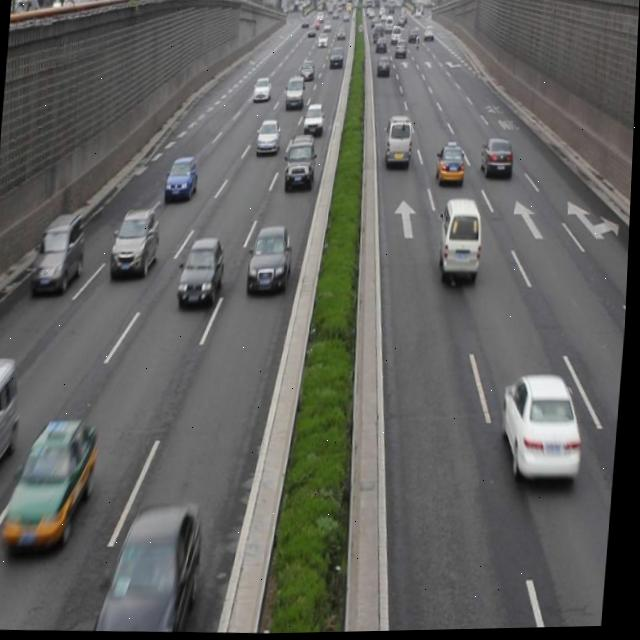car: (97, 499, 208, 634), (6, 416, 101, 555), (499, 373, 589, 483), (32, 210, 88, 295), (112, 206, 163, 280), (179, 236, 226, 309), (248, 224, 295, 295), (284, 133, 318, 192), (166, 154, 199, 204), (480, 136, 515, 183), (437, 143, 466, 187), (256, 119, 281, 157), (302, 102, 326, 140)
truck: (438, 198, 484, 279), (0, 353, 25, 489), (383, 115, 414, 171)
